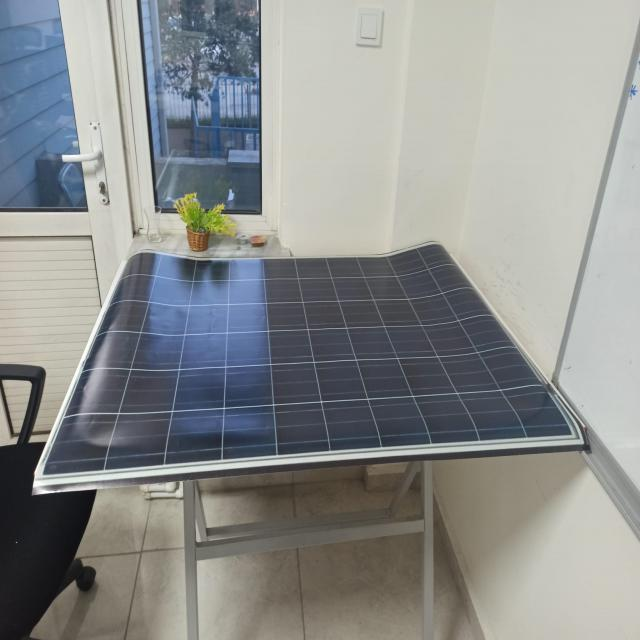no faulty: (35, 248, 592, 488)
